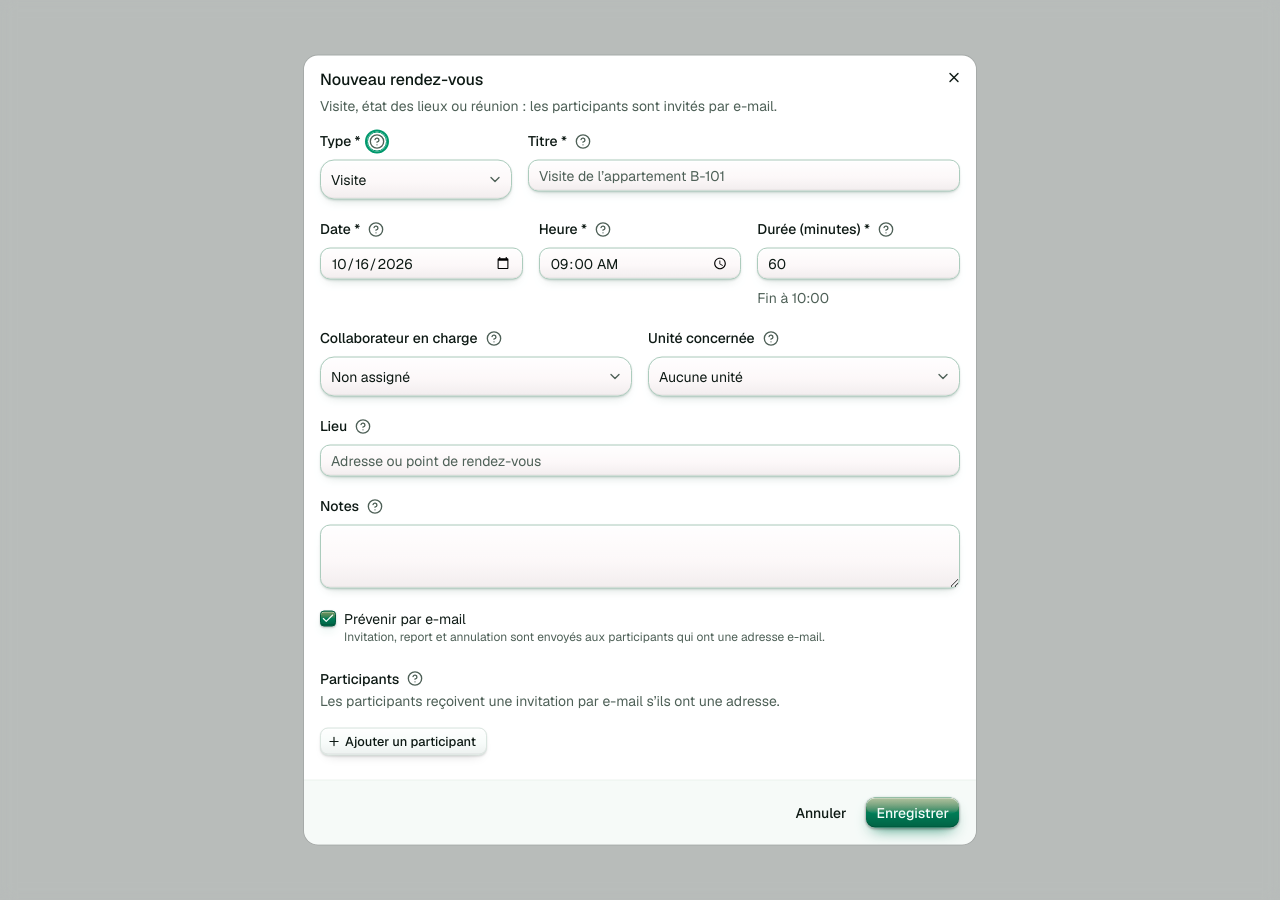
Test: AppointmentDialog › refuses an end that does not follow the start
In the field labelled "Titre *": (744, 176) x1=528 y1=160 x2=960 y2=192, type "Visite B-101"
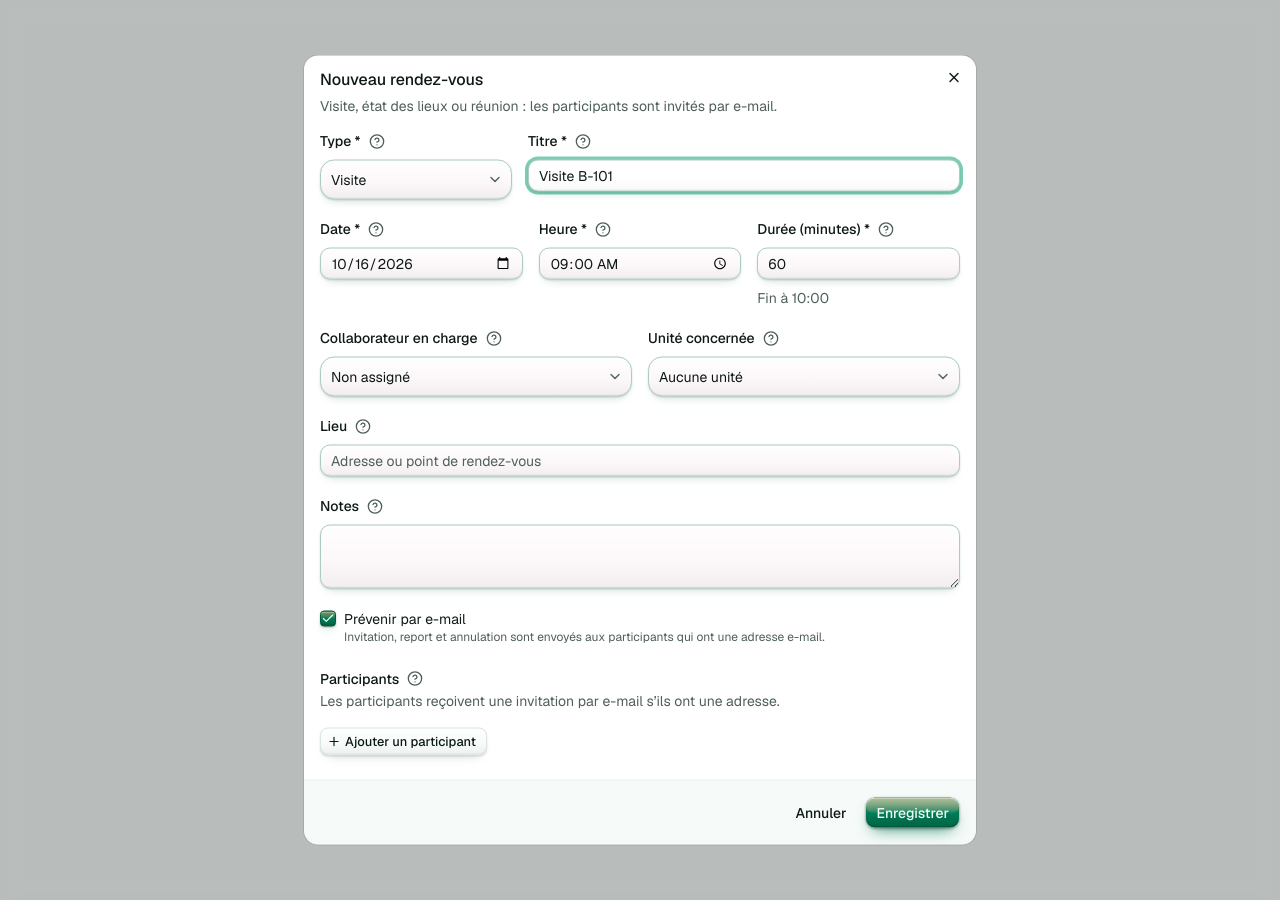
Replace the text in the field labelled "Durée (minutes) *" with "-30": (859, 264) x1=757 y1=248 x2=960 y2=280
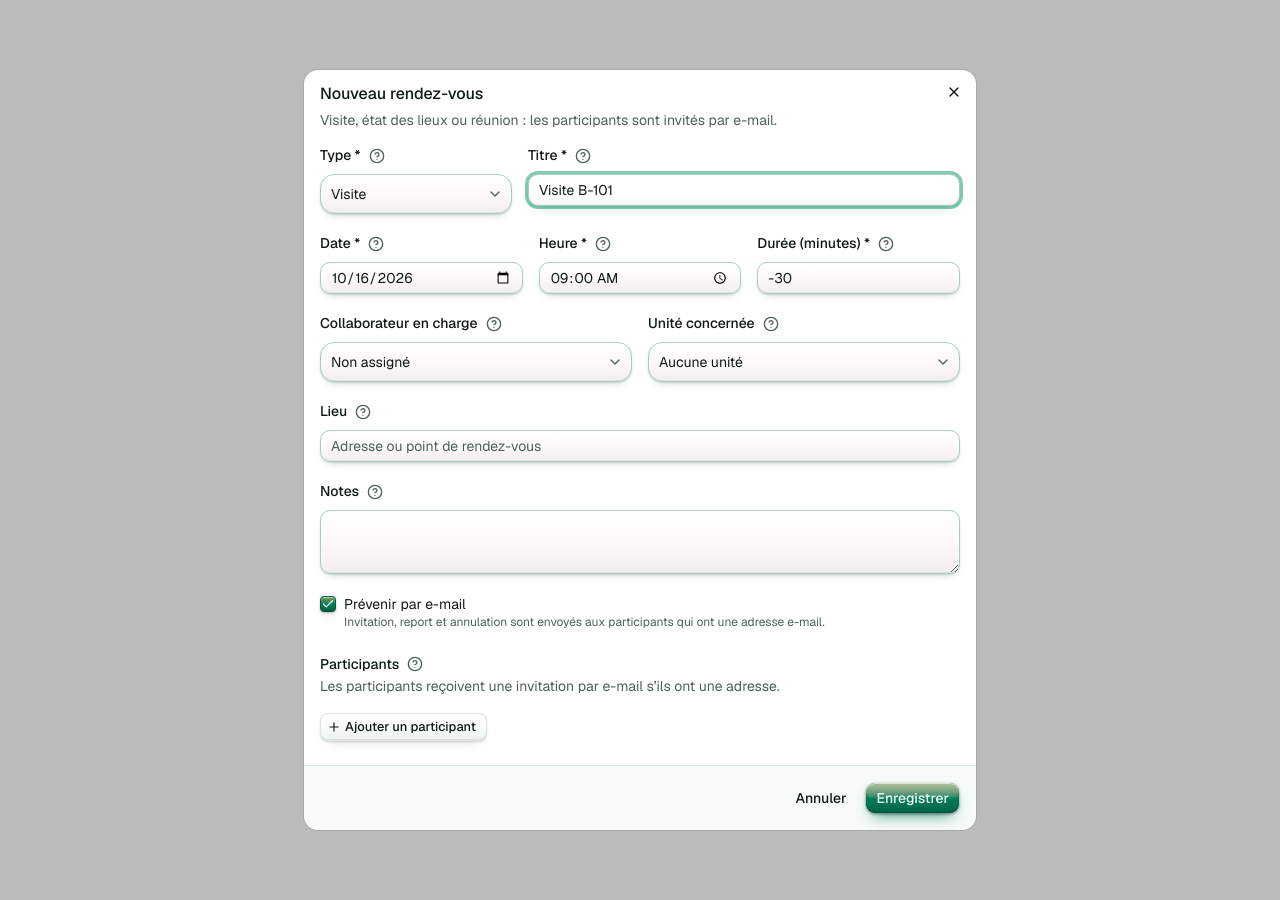
Click the button "Enregistrer": (913, 798) x1=866 y1=782 x2=960 y2=814
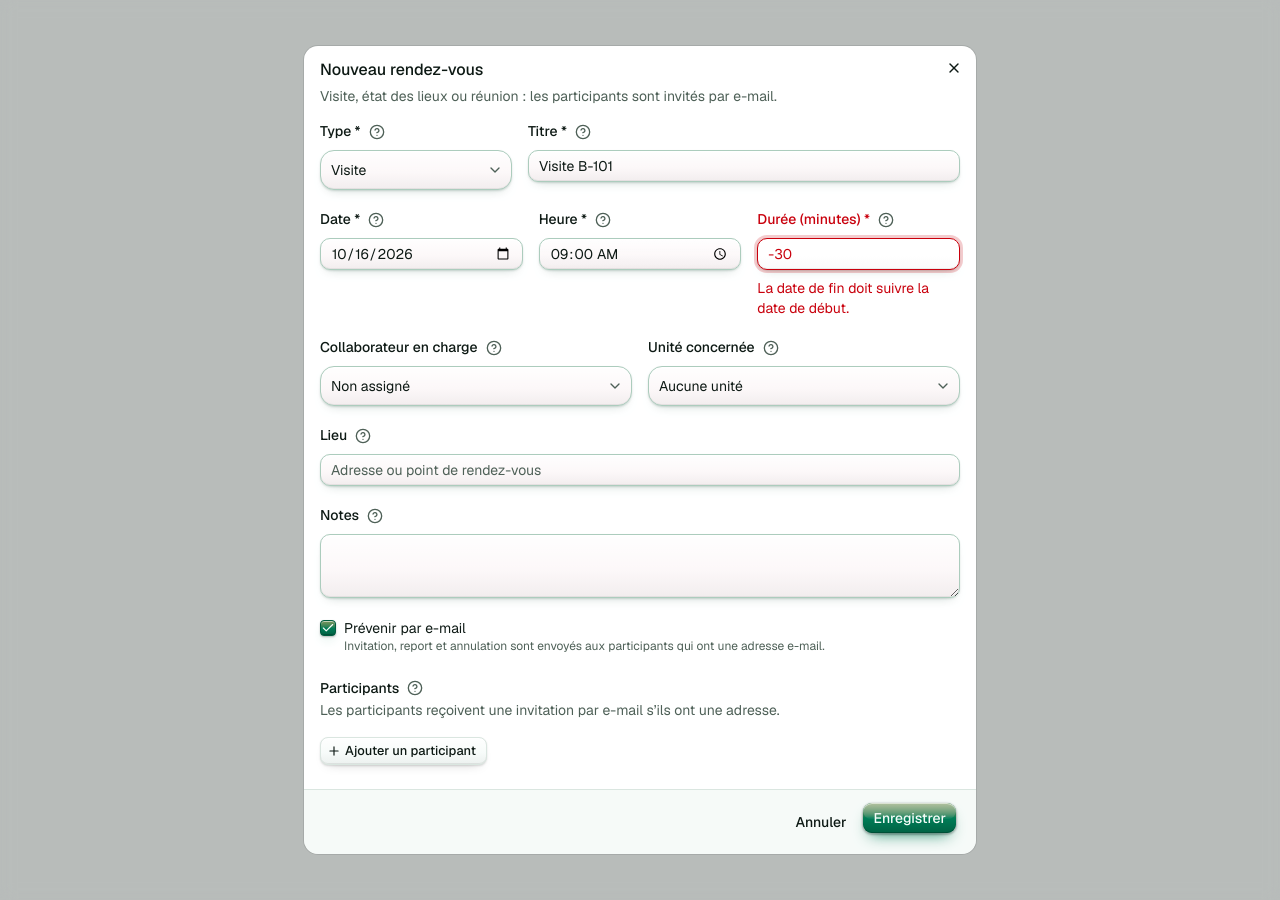
Check: the text "La date de fin doit suivre la date de début." is shown, box x1=757 y1=279 x2=929 y2=317
